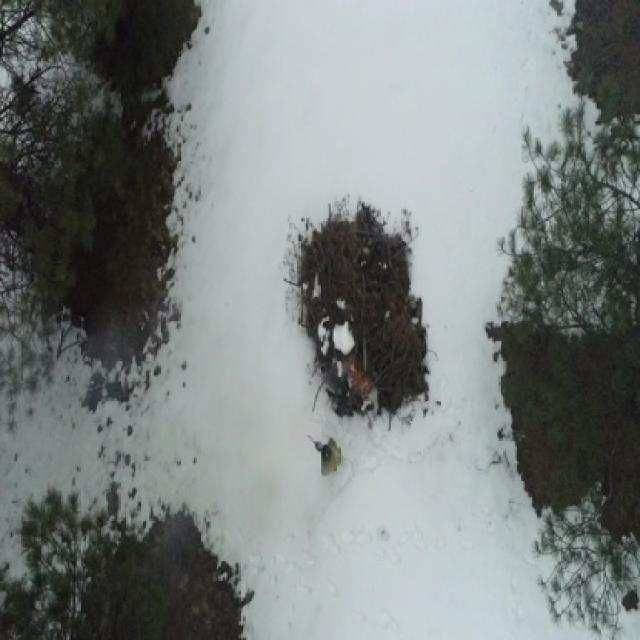Fire: (354, 363, 373, 393)
